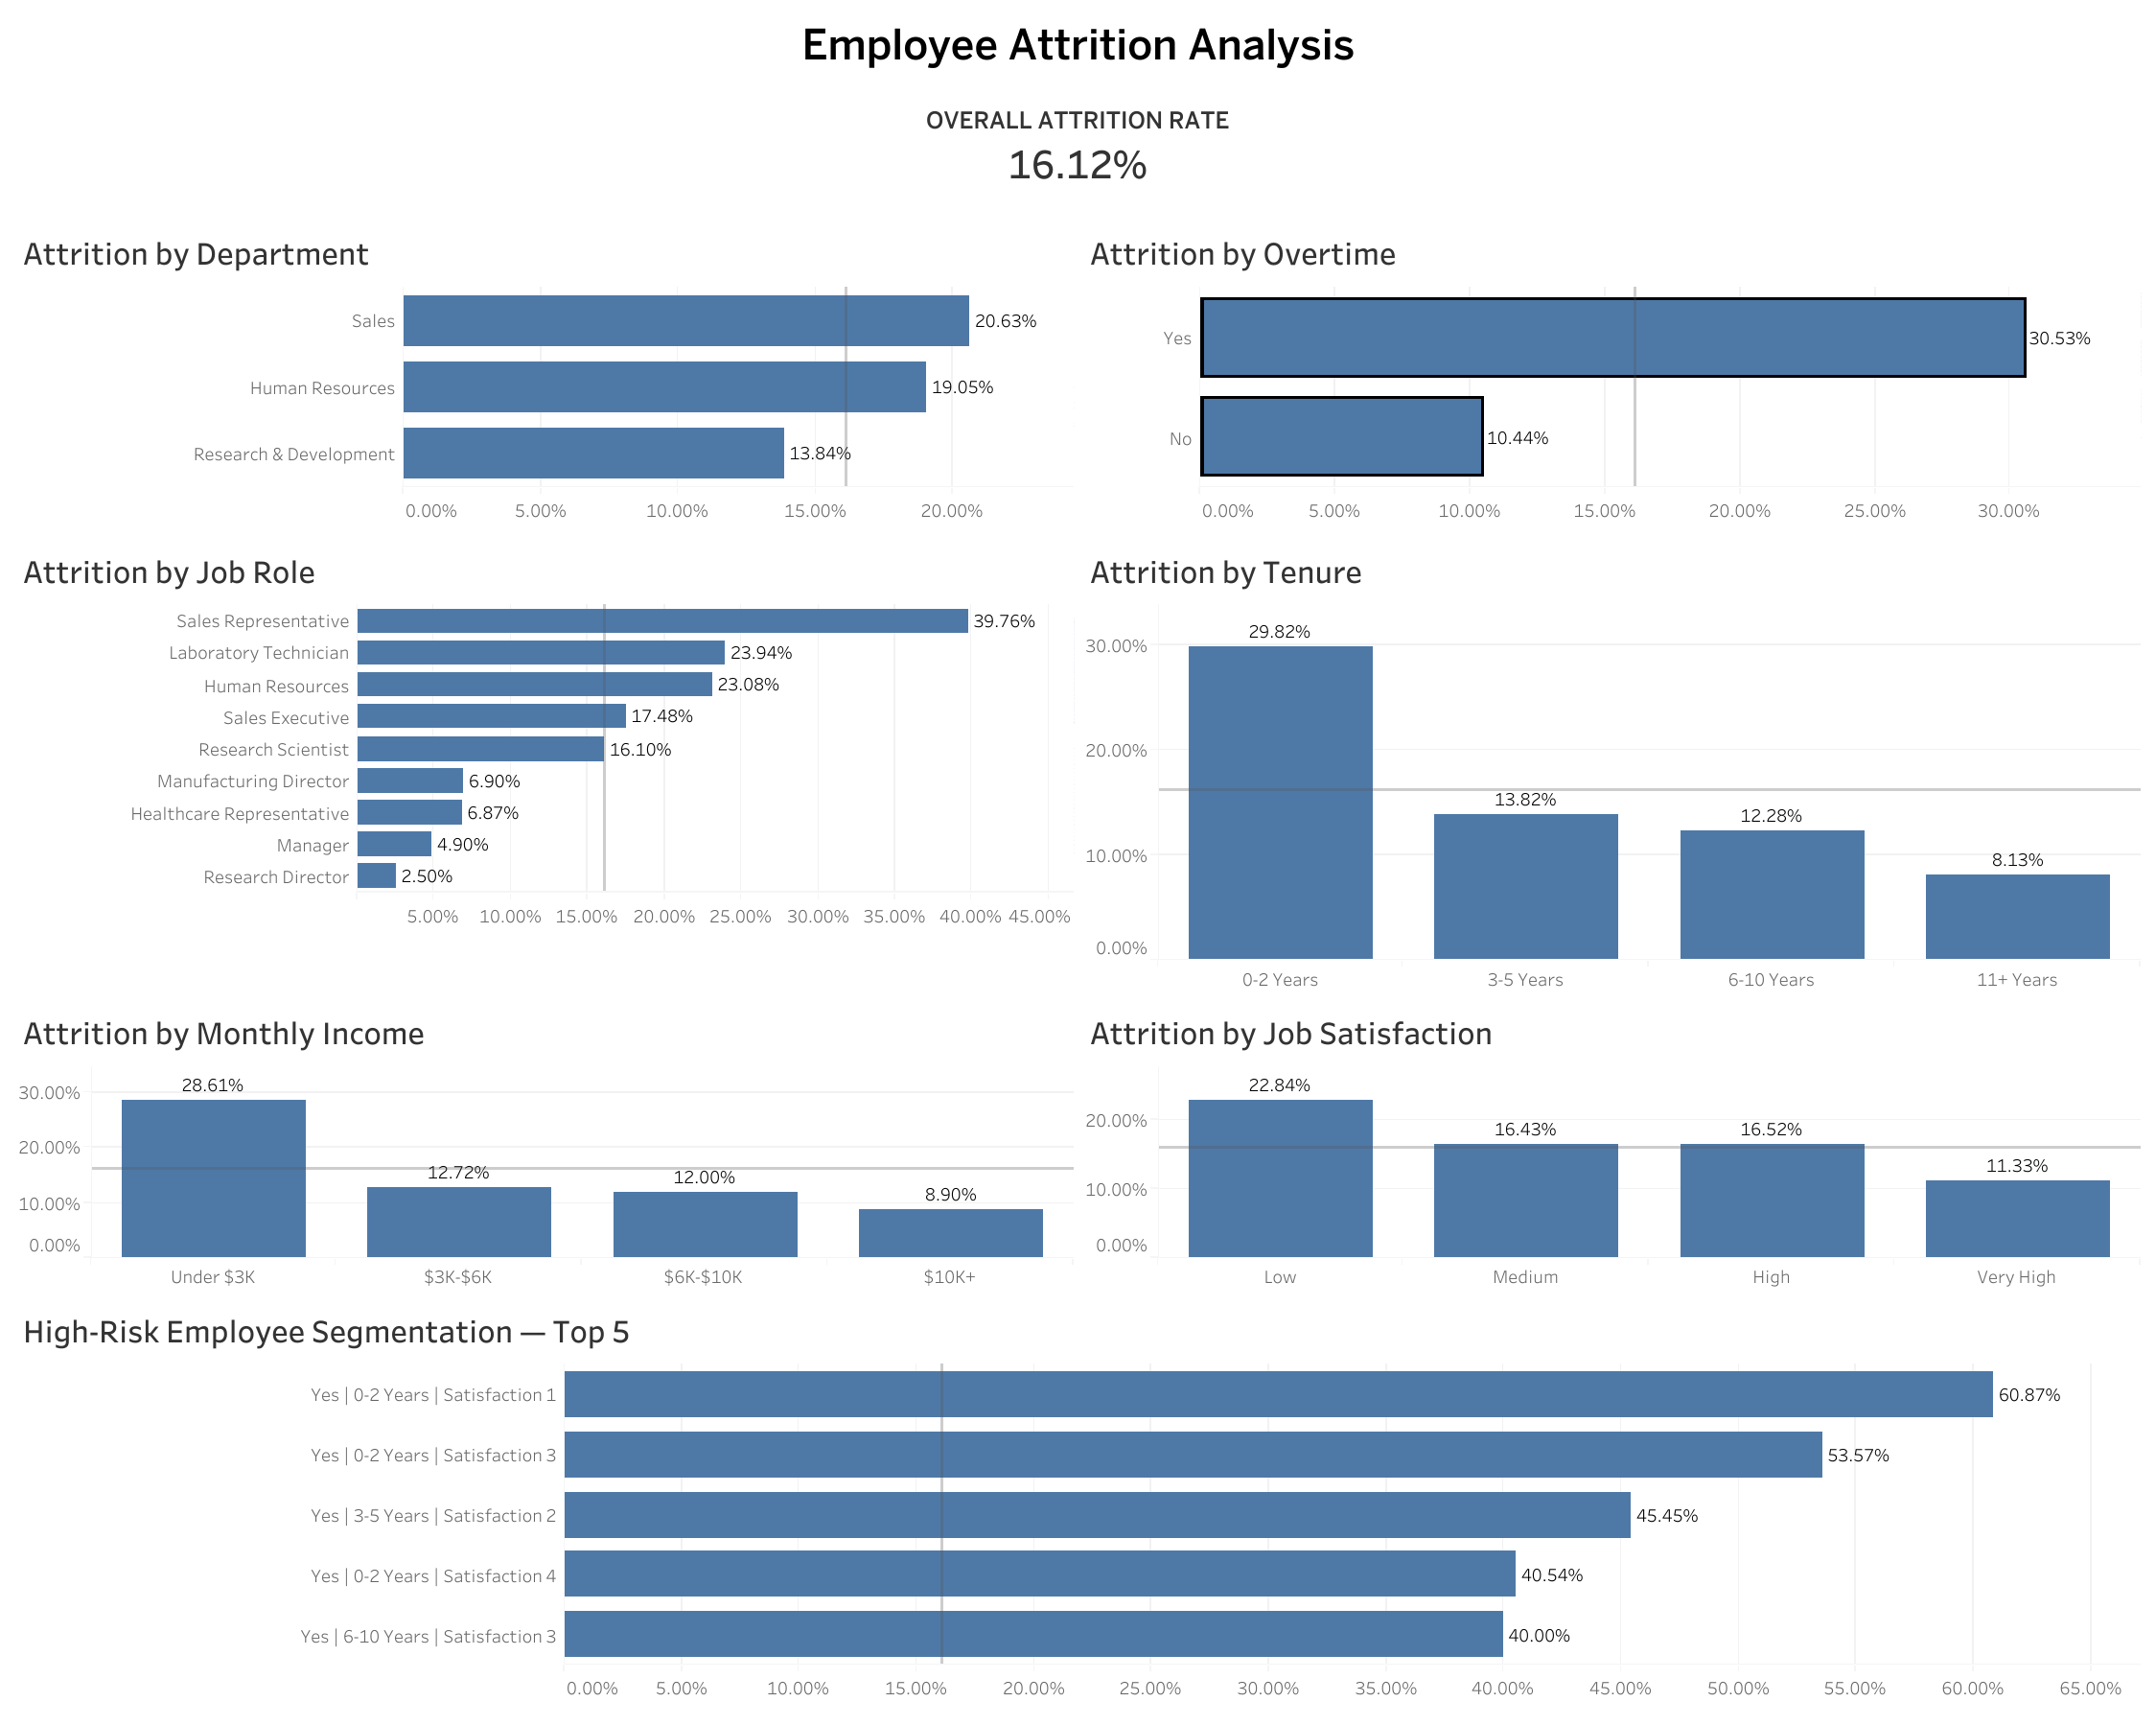

The page's visual inventory and layout, read from the dashboard file:
{"tool":"tableau","page":{"name":"Dashboard 1","canvas":[1500,1200],"ordinal":0},"visuals":[{"type":"title","box":[8,8,1484,46]},{"type":"worksheet","title":"Attrition Rate","mark":"Automatic","box":[8,54,1484,97]},{"type":"worksheet","title":"Attrition by Department","mark":"Automatic","rows":["Department"],"cols":["Calculation_0442867951288320"],"box":[8,151,742,221]},{"type":"worksheet","title":"Attrition by Overtime","mark":"Automatic","rows":["OverTime"],"cols":["Calculation_0442867951288320"],"box":[750,151,742,221]},{"type":"worksheet","title":"Attrition by Job Role","mark":"Automatic","rows":["JobRole"],"cols":["Calculation_0442867951288320"],"box":[8,372,742,321]},{"type":"worksheet","title":"Attrition by Tenure","mark":"Bar","rows":["Calculation_0442867951288320"],"cols":["Calculation_0442868145700865"],"box":[750,372,742,321]},{"type":"worksheet","title":"Attrition by Monthly Income","mark":"Bar","rows":["Calculation_0442867951288320"],"cols":["Calculation_0442868148867074"],"box":[8,693,742,207]},{"type":"worksheet","title":"Attrition by Job Satisfaction ","mark":"Bar","rows":["Calculation_0442867951288320"],"cols":["JobSatisfaction"],"box":[750,693,742,207]},{"type":"worksheet","title":"High-Risk Employee Segmentation — Top 5","mark":"Bar","rows":["Calculation_0442868153176067"],"cols":["Calculation_0442867951288320"],"box":[8,900,1484,292]}]}

Visuals, with their boxes in screenshot pixels (x1, y1, x2, y2), scaled from the page's 1500x1200 canvas onto the 2156x1725 screenshot:
title: 12,12,2144,78
"Attrition Rate" worksheet: 12,78,2144,217
"Attrition by Department" worksheet: 12,217,1078,535
"Attrition by Overtime" worksheet: 1078,217,2144,535
"Attrition by Job Role" worksheet: 12,535,1078,996
"Attrition by Tenure" worksheet (Bar marks): 1078,535,2144,996
"Attrition by Monthly Income" worksheet (Bar marks): 12,996,1078,1294
"Attrition by Job Satisfaction " worksheet (Bar marks): 1078,996,2144,1294
"High-Risk Employee Segmentation — Top 5" worksheet (Bar marks): 12,1294,2144,1713
